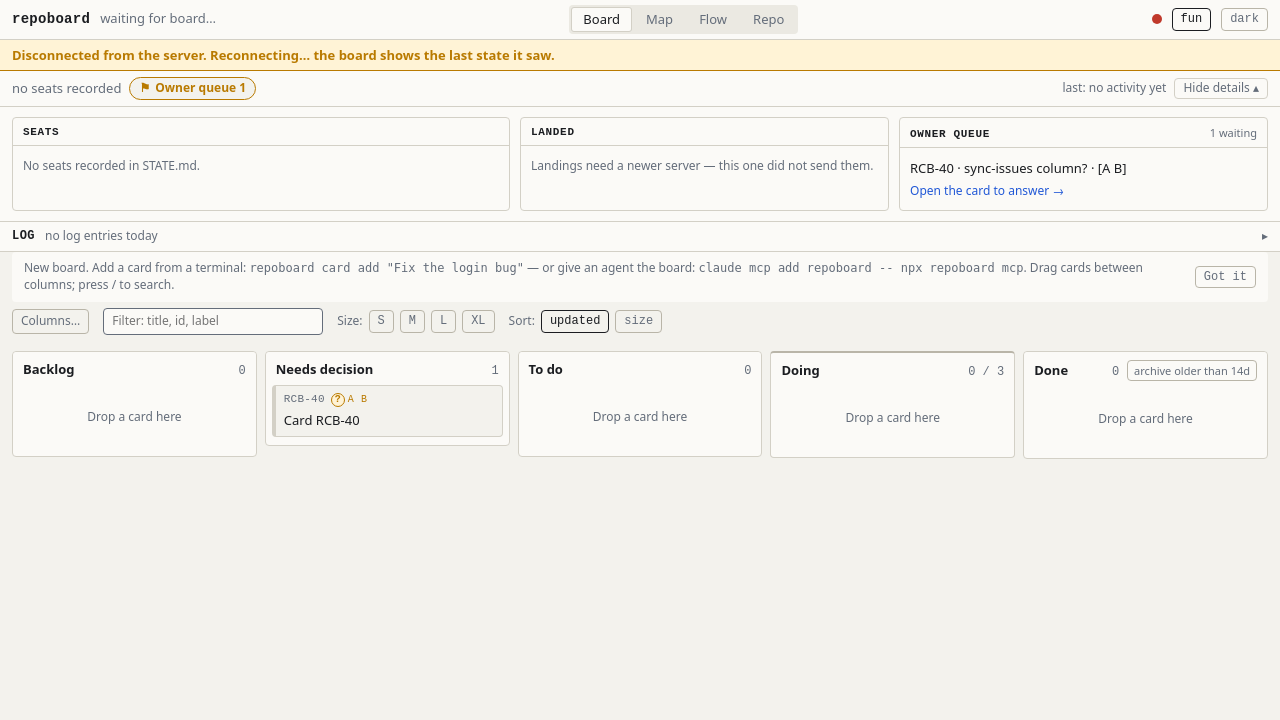
Test: Owner queue › clicking an item opens that card's drawer — it does not scroll to a column
This screenshot has width=1280, height=720.
Expected: the element showing "Needs decision 1 RCB-40 ? A B Card RCB-40" is shown, [265,350,510,446]
Click the button with test id "owner-item-RCB-40": coordinates (1084, 179) [900,152,1267,206]
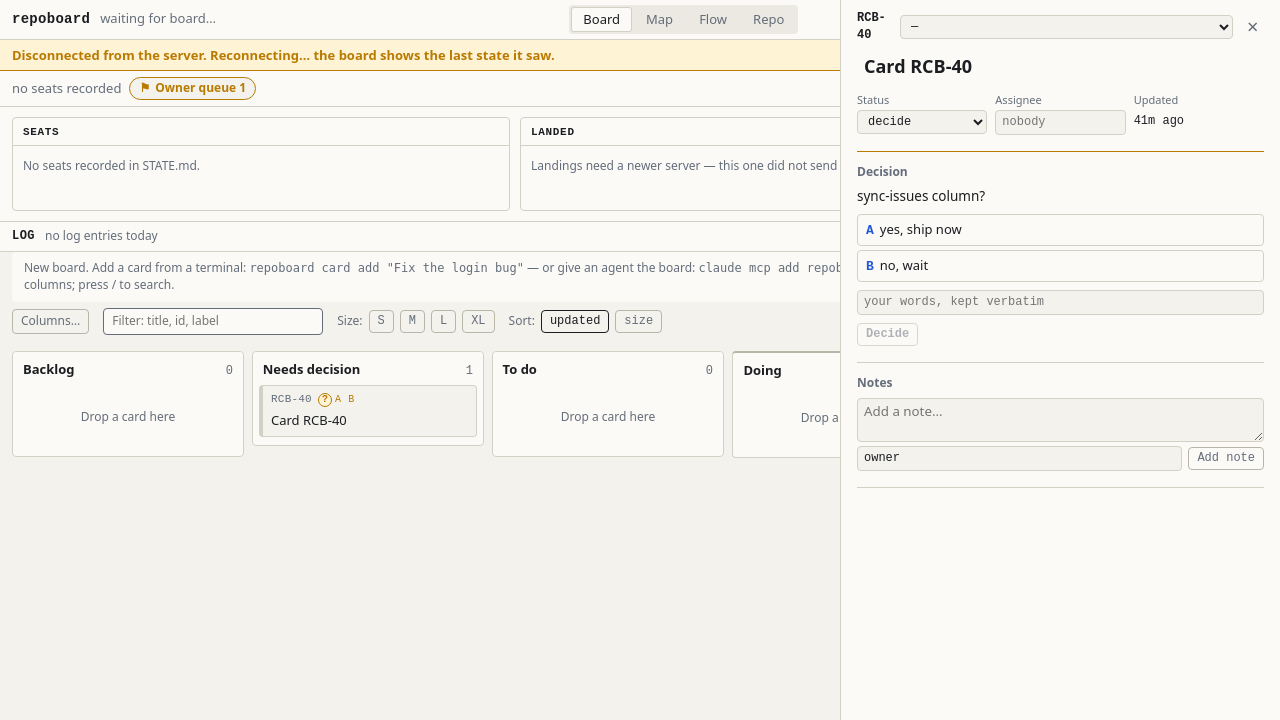
Expected: the button "RCB-40" is shown, [271,392,312,408]
Result: the dialog with test id "drawer" is shown at [840,0,1279,719]
